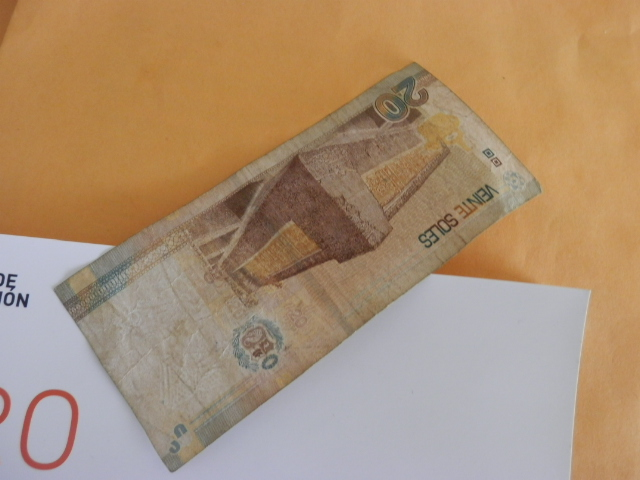B20: (69, 75, 533, 466)
